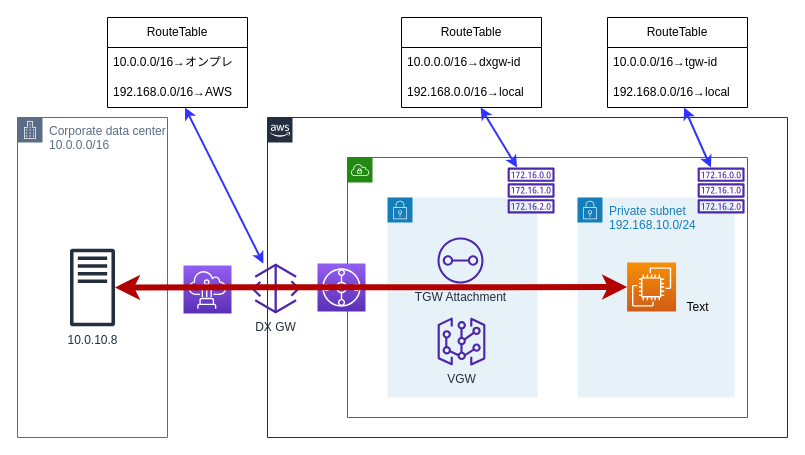
The diagram is 805 pixels wide and 455 high, and some of its shapes have lost their labels. Each missing label, with the box of its shape:
DX: (182, 264, 232, 314)
EC2 192.168.10.5: (626, 262, 676, 312)
Private subnet (192.168.0.0/24): (386, 196, 538, 398)
TGW: (316, 262, 366, 312)
VPC(192.168.0.0/16): (346, 156, 748, 418)
